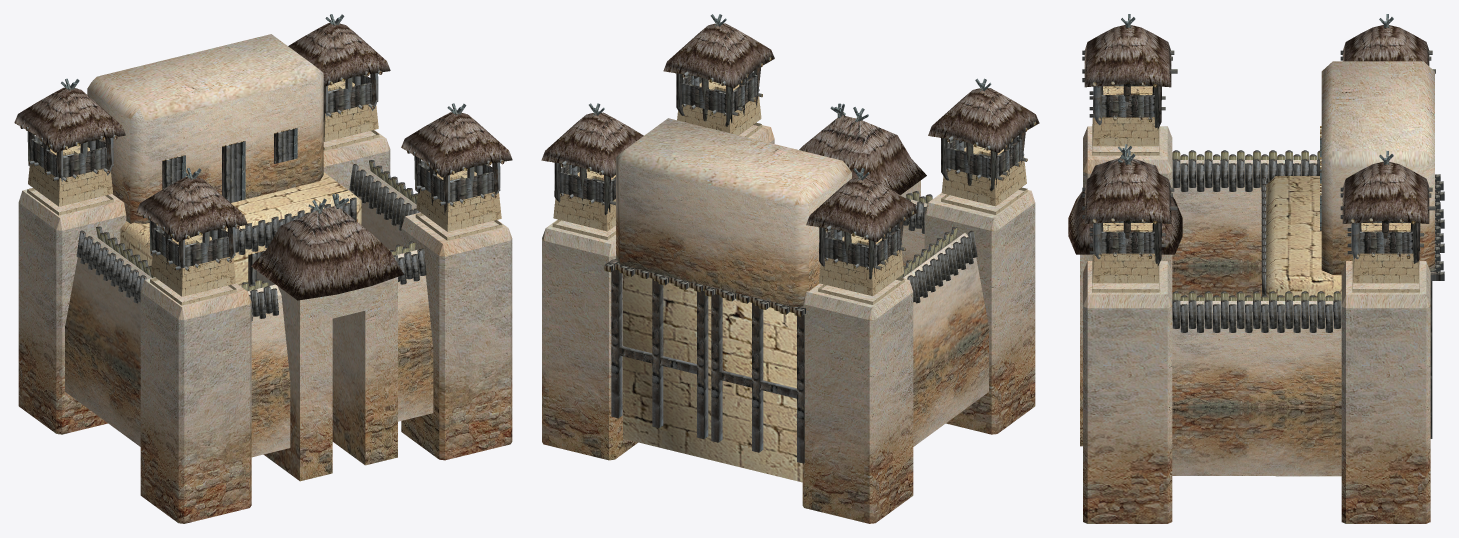
Rendered from fortress_hopi.dae.
3 views of the same model, side by side, from view 1: azimuth 30°, elevation 25°; view 2: azimuth 150°, elevation 25°; view 3: azimuth 270°, elevation 25° (orthographic). The views are drawn at different scales.
Visible parts, largest first — view 1: Cube; view 2: Cube; view 3: Cube.
Part boxes in pixels (x1=…): Cube: x1=14, y1=14, x2=512, y2=523; Cube: x1=541, y1=14, x2=1039, y2=523; Cube: x1=1068, y1=14, x2=1444, y2=523.
Bounding box in the file's own units: 29.27 × 26.74 × 27.52.
